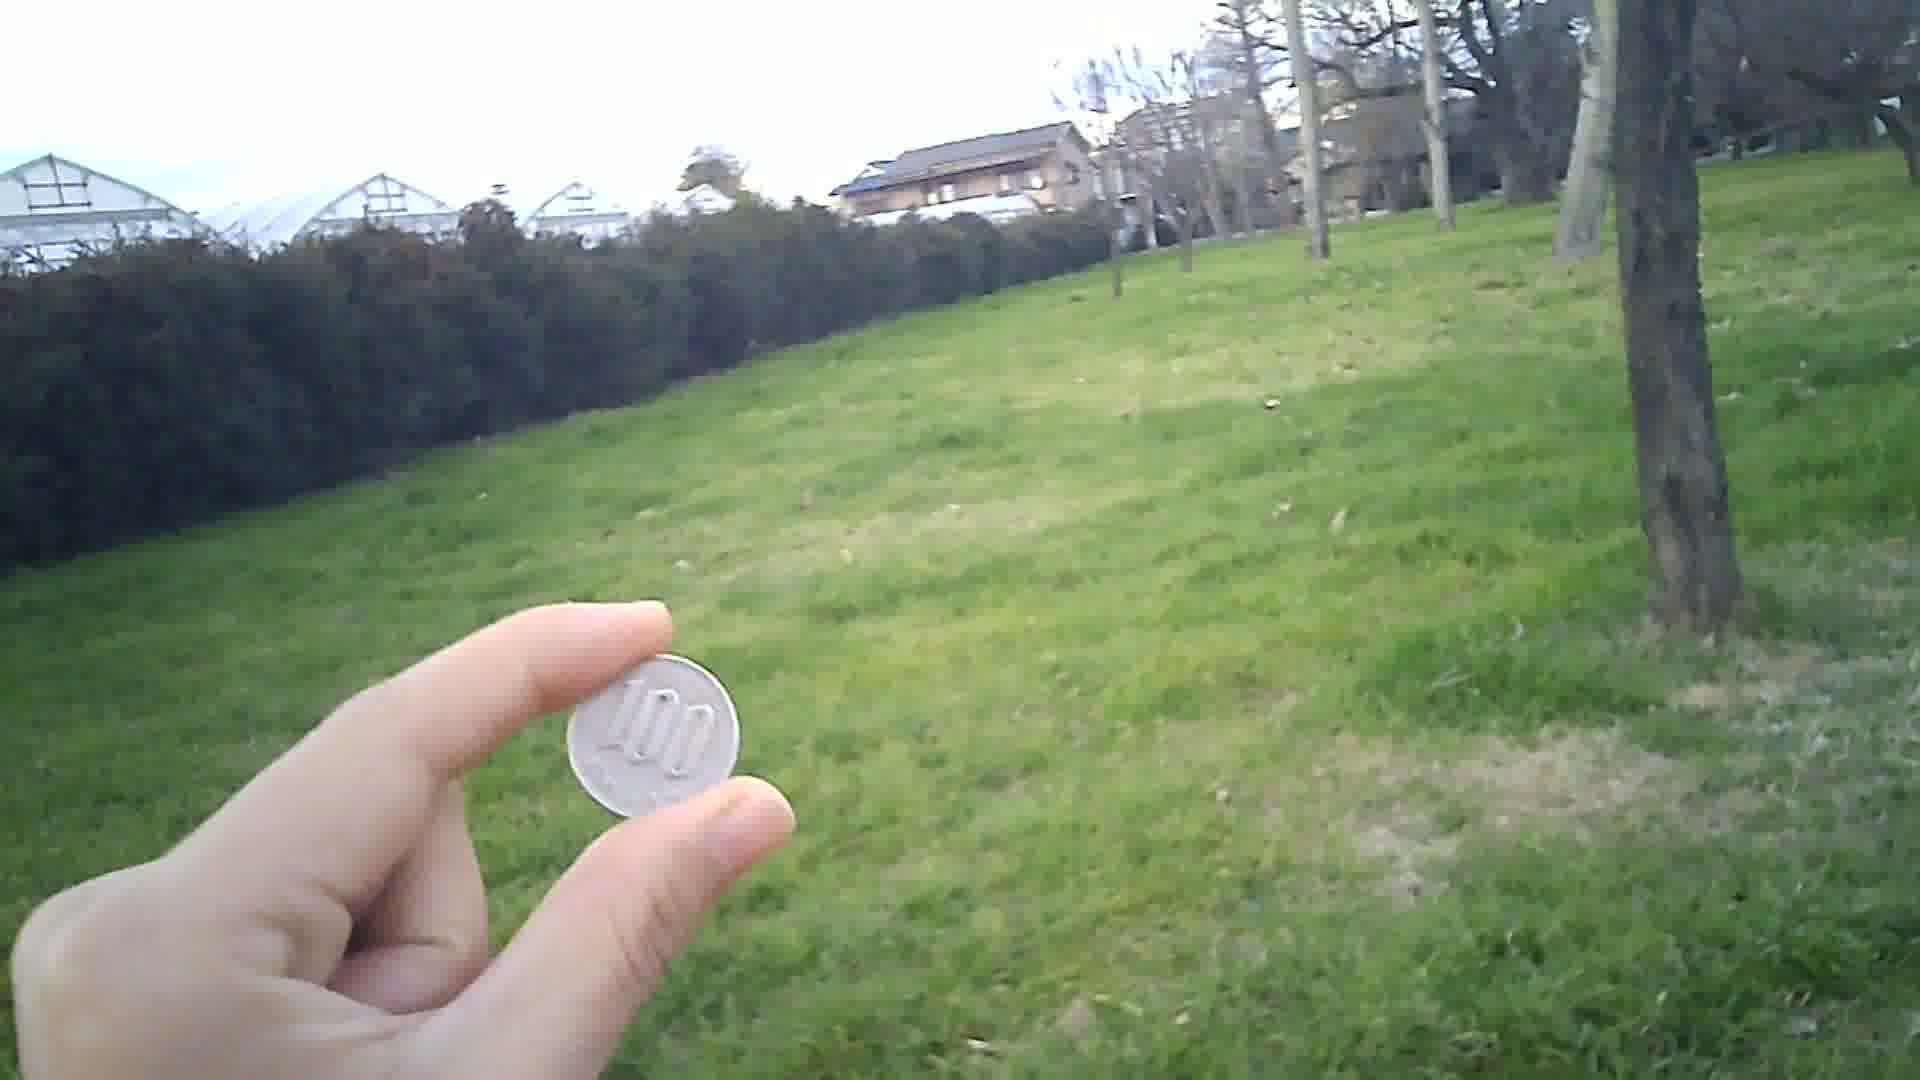100 Yen: (555, 640, 745, 819)
